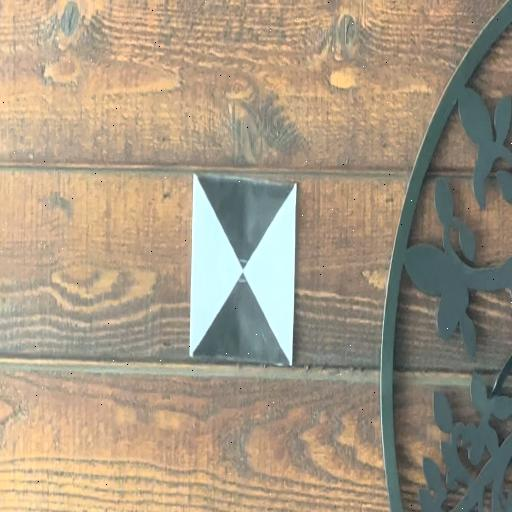target: (188, 172, 297, 365)
